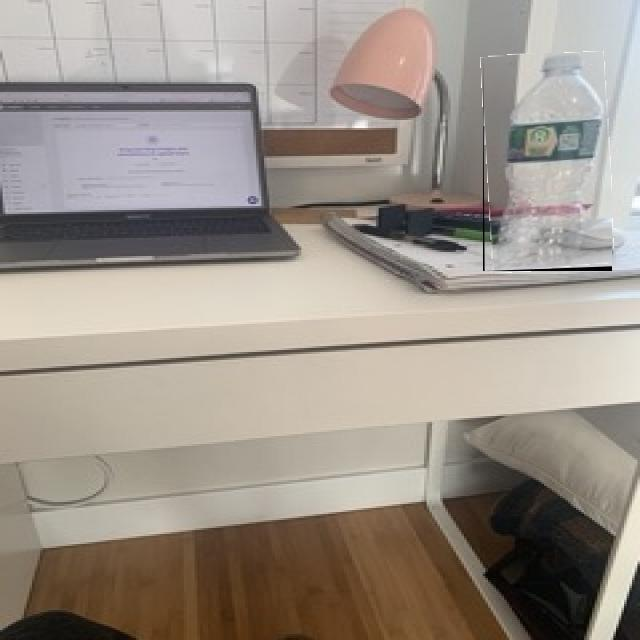water_bottle: (483, 53, 612, 271)
